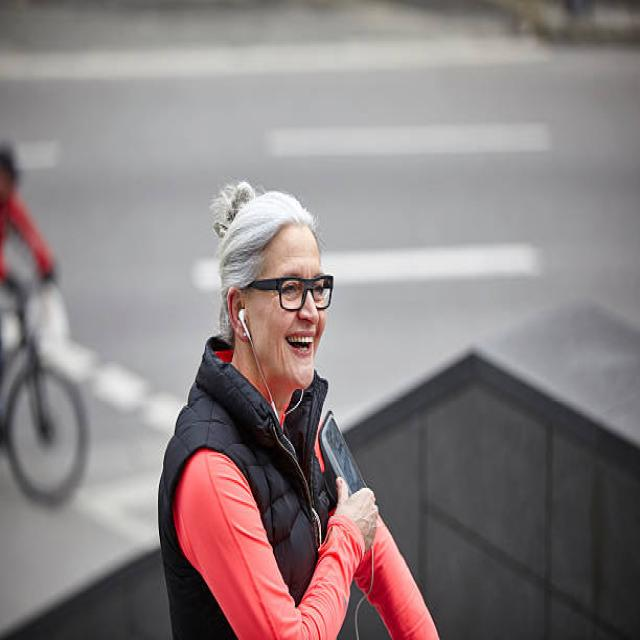Earphone: (239, 306, 304, 458)
